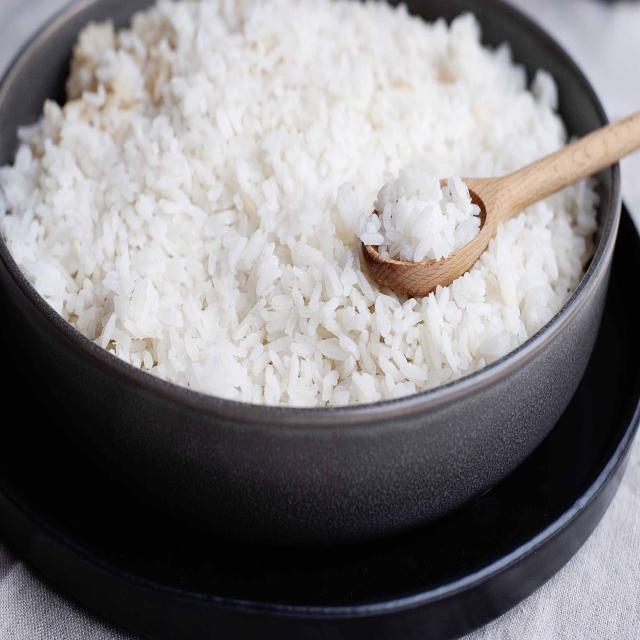Wet Waste: (0, 0, 615, 414)
